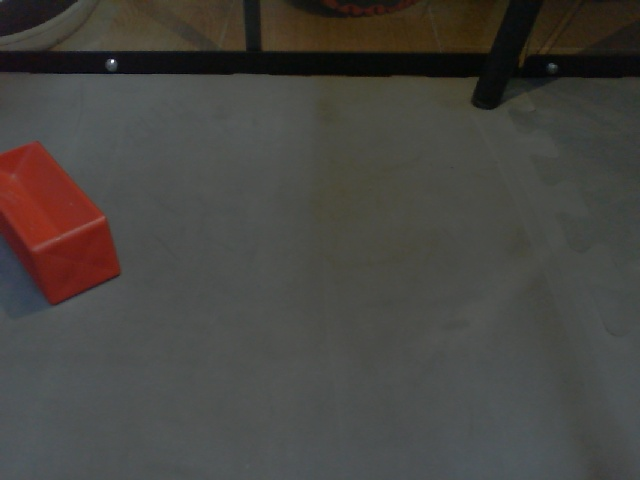RedSample: (1, 139, 124, 310)
